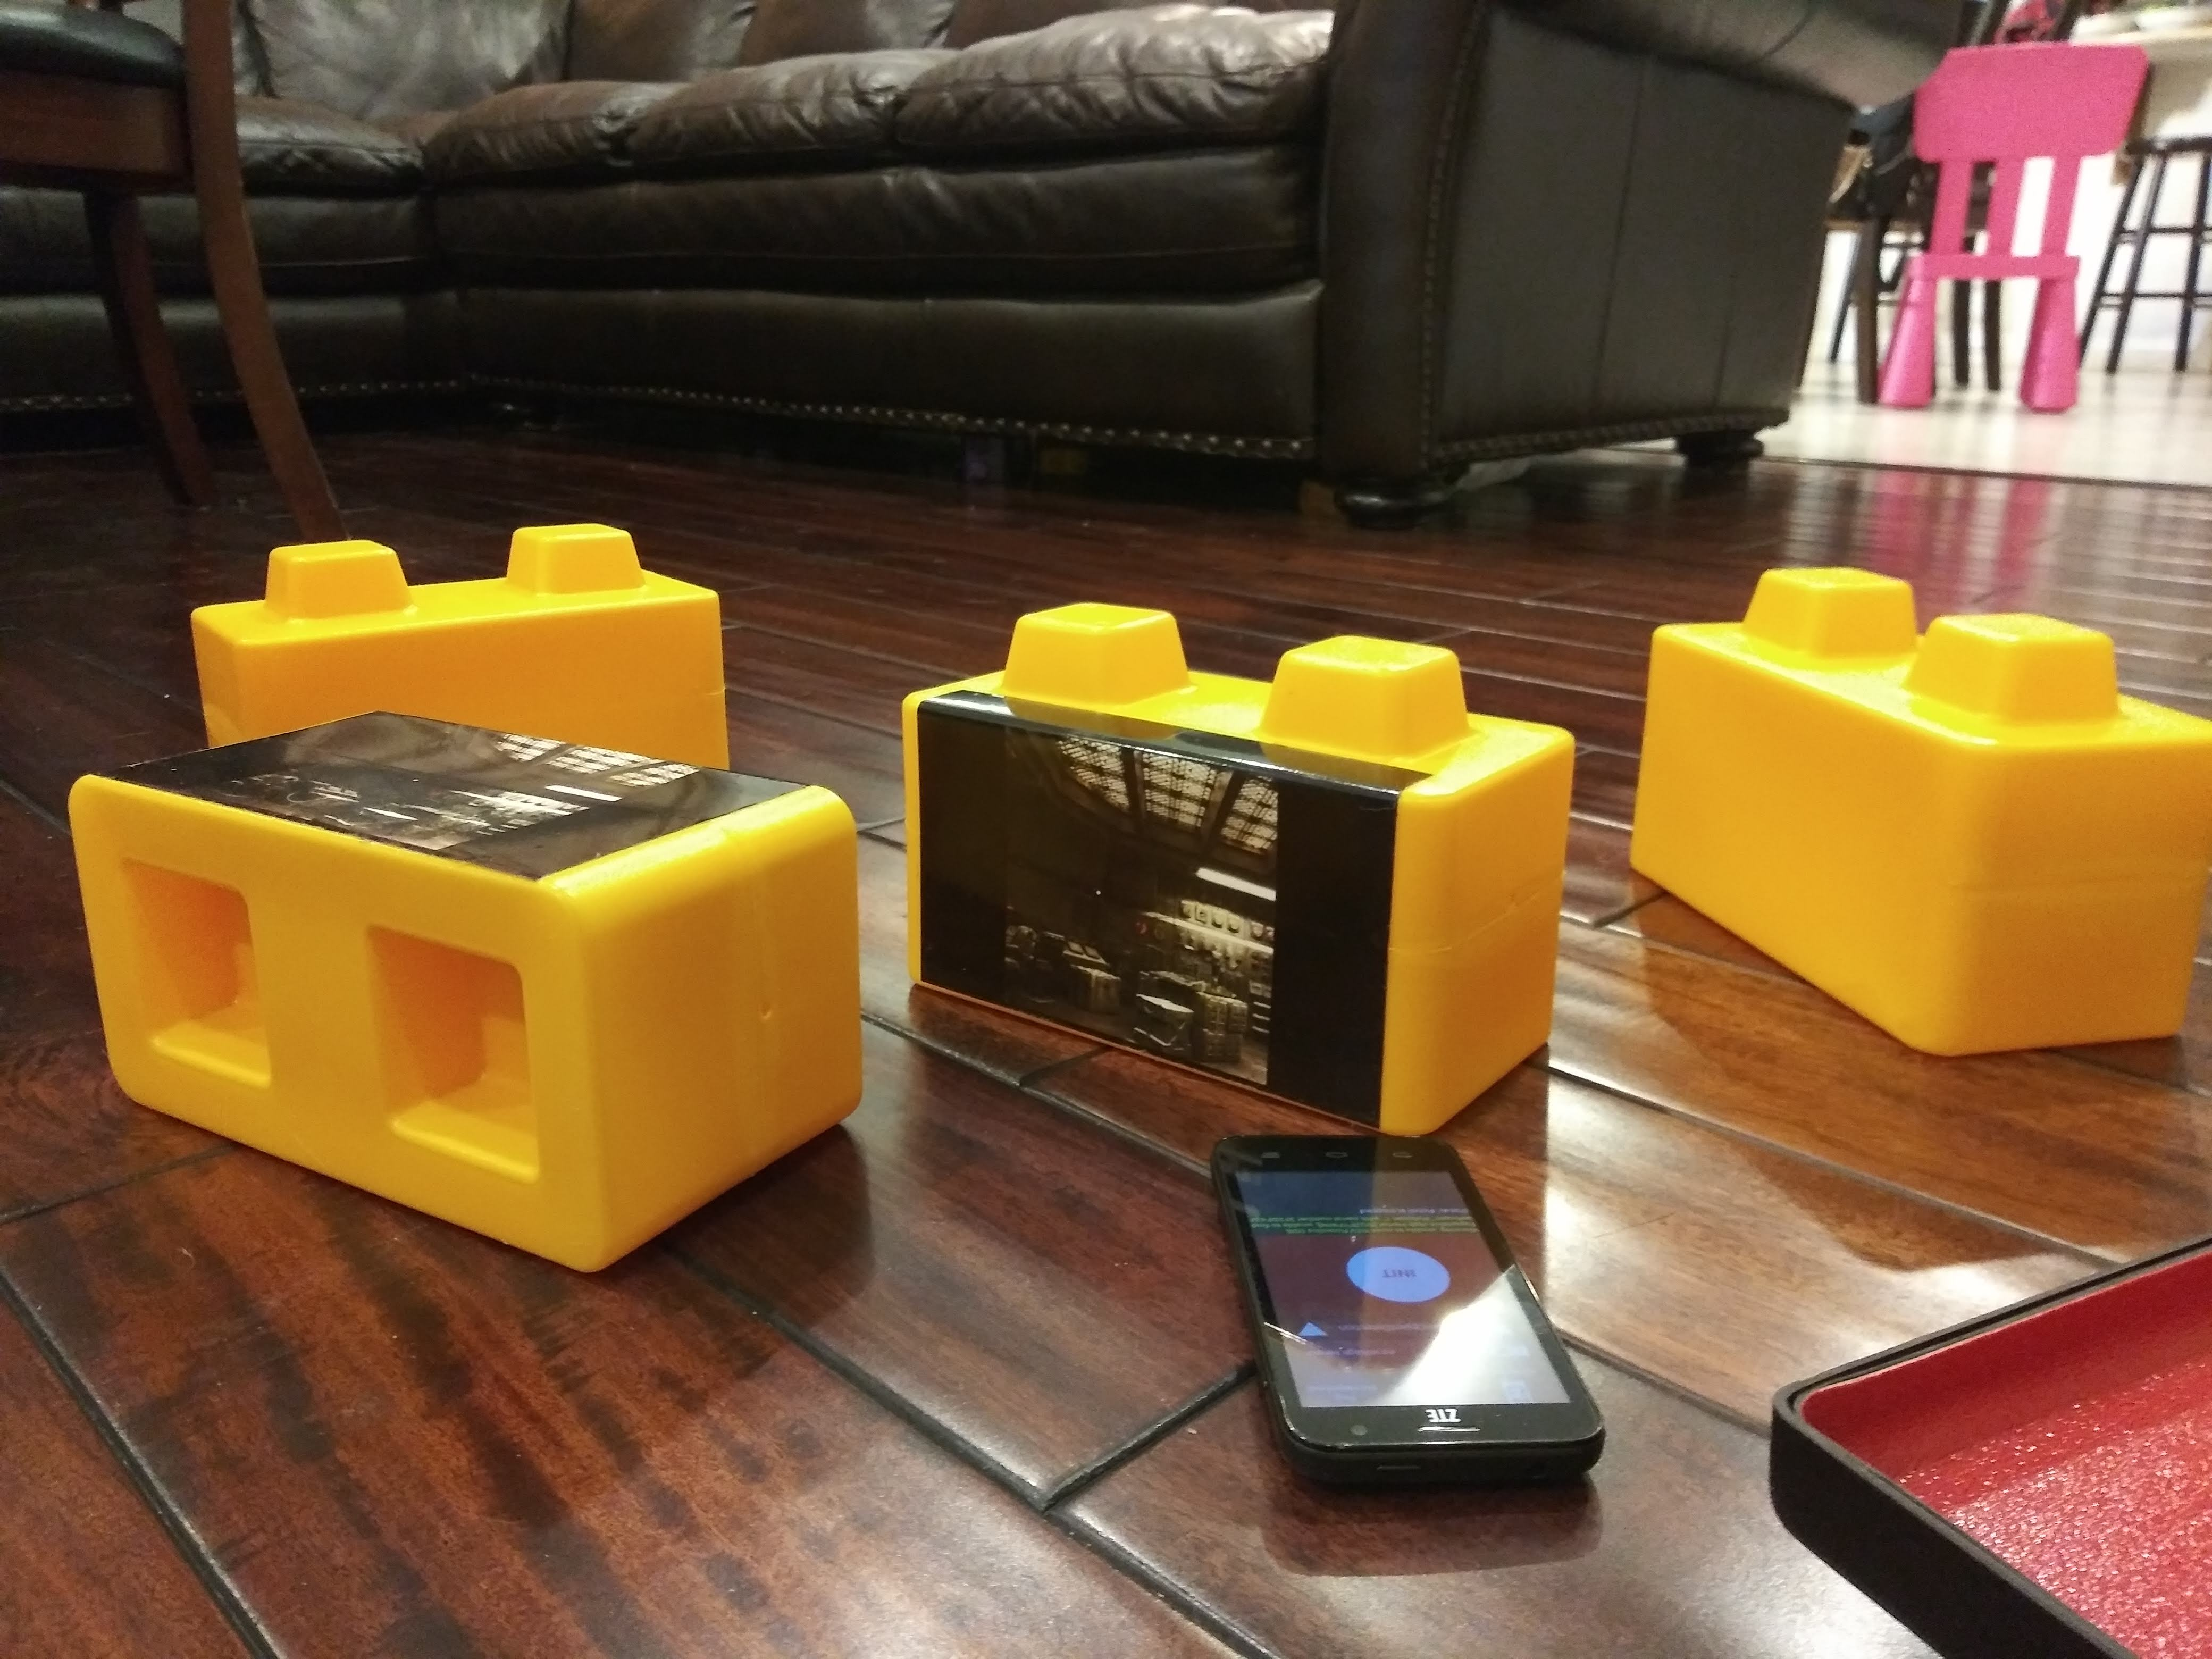skystone: (117, 734, 791, 1168), (892, 662, 1524, 1084)
stone: (1618, 582, 2182, 1032), (185, 573, 754, 727)
